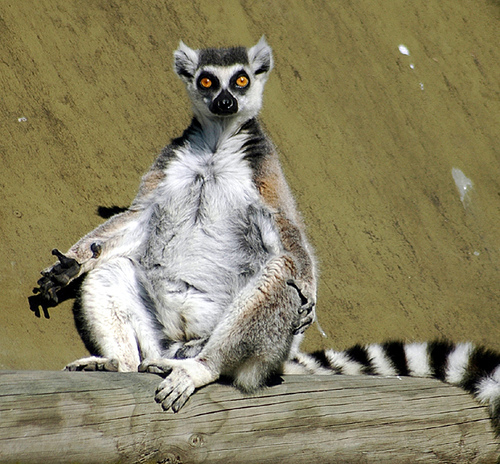cat: (30, 33, 498, 439)
